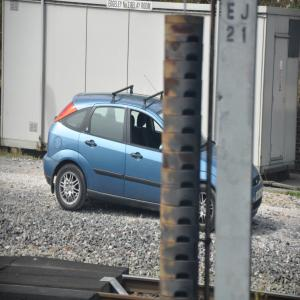Vehicle-registration-plate: (256, 188, 264, 203)
